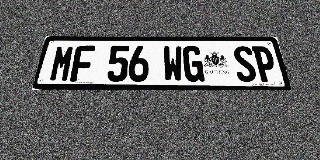5: (107, 46, 129, 82)
6: (128, 46, 149, 82)
F: (70, 46, 95, 82)
G: (182, 46, 205, 82)
M: (48, 45, 75, 82)
P: (251, 46, 279, 82)
S: (232, 46, 258, 82)
W: (163, 46, 184, 82)
